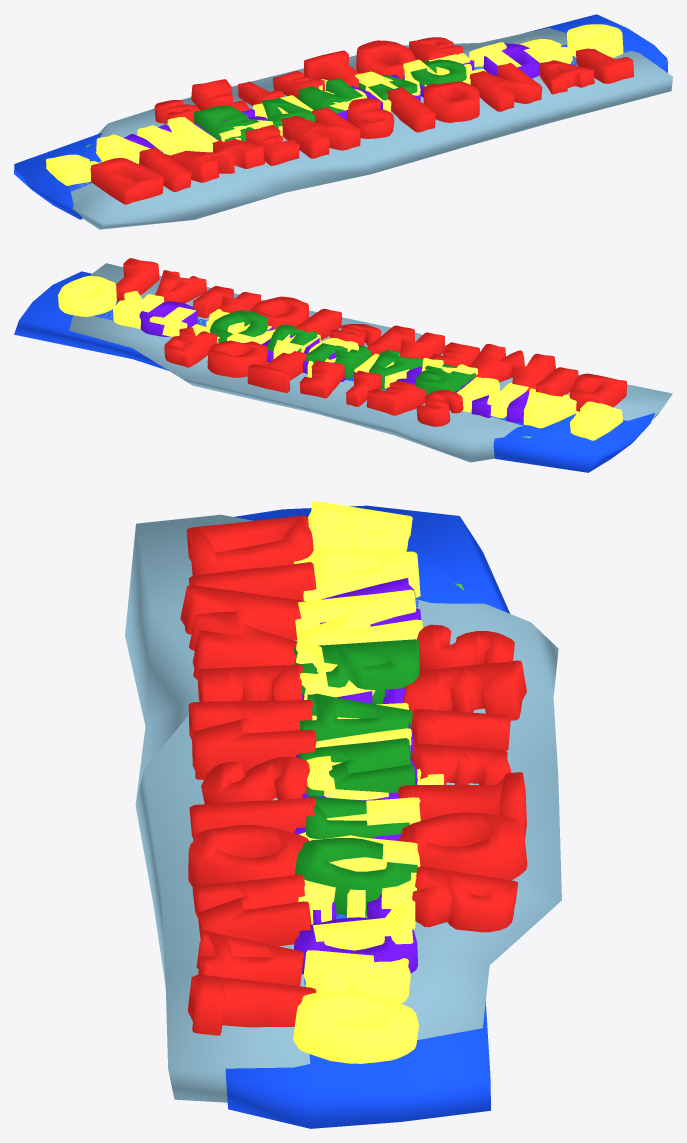
File: PlacasLobby.fbx
The picture shows the model from 3 angles, top to bottom: view 1: azimuth 30°, elevation 25°; view 2: azimuth 150°, elevation 25°; view 3: azimuth 270°, elevation 25°; orthographic projection. The views are drawn at different scales.
Visible parts, largest first — view 1: SeletorDimencional, PlacaSeletor, Bananometro, Bando, PlacaBananometro, Vestimico; view 2: SeletorDimencional, PlacaSeletor, Bananometro, PlacaBananometro, Bando, Vestimico; view 3: SeletorDimencional, PlacaSeletor, Bananometro, PlacaBananometro, Bando, Vestimico.
Boxes of the visible parts, bbox=[...] form: SeletorDimencional: bbox=[90, 37, 633, 204]; PlacaSeletor: bbox=[70, 28, 672, 229]; Bananometro: bbox=[46, 24, 623, 185]; Bando: bbox=[194, 59, 466, 141]; PlacaBananometro: bbox=[14, 14, 668, 219]; Vestimico: bbox=[123, 43, 539, 154]; SeletorDimencional: bbox=[116, 258, 626, 426]; PlacaSeletor: bbox=[69, 263, 672, 462]; Bananometro: bbox=[58, 276, 622, 440]; PlacaBananometro: bbox=[14, 271, 654, 472]; Bando: bbox=[209, 310, 475, 395]; Vestimico: bbox=[139, 301, 529, 423]; SeletorDimencional: bbox=[180, 515, 527, 1035]; PlacaSeletor: bbox=[125, 514, 561, 1102]; Bananometro: bbox=[293, 501, 443, 1063]; PlacaBananometro: bbox=[225, 505, 509, 1128]; Bando: bbox=[294, 639, 420, 915]; Vestimico: bbox=[294, 578, 421, 974].
Size of the model in its own units: 6.64 by 0.377 by 2.07.
